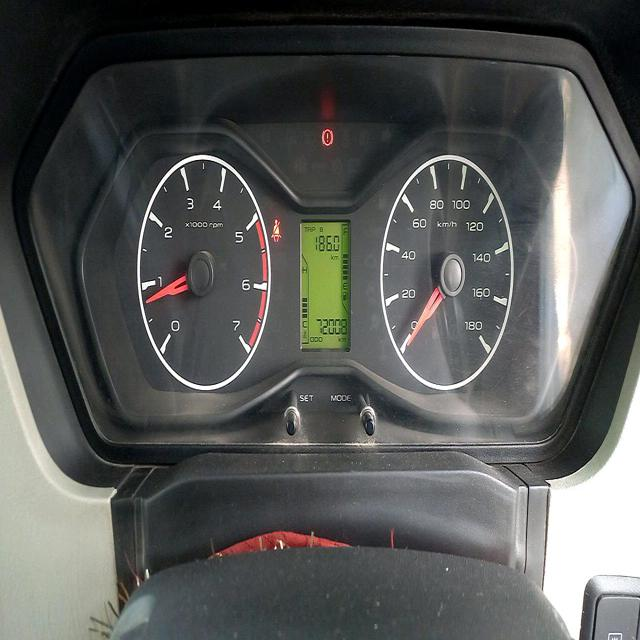odometer: (315, 314, 349, 337)
